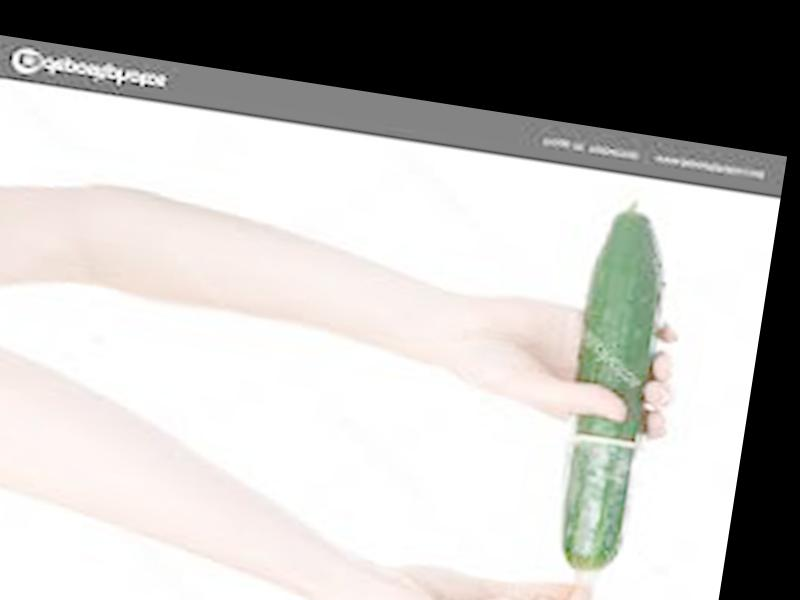Cucumber: (552, 197, 675, 578)
